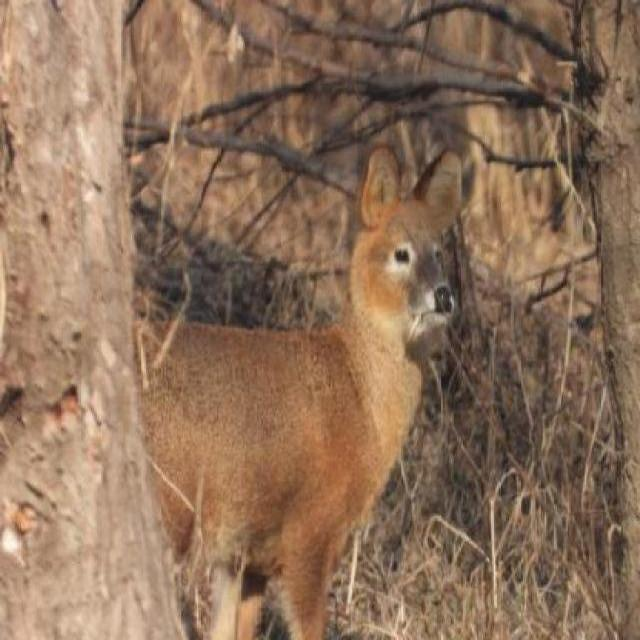deer: (143, 143, 464, 638)
